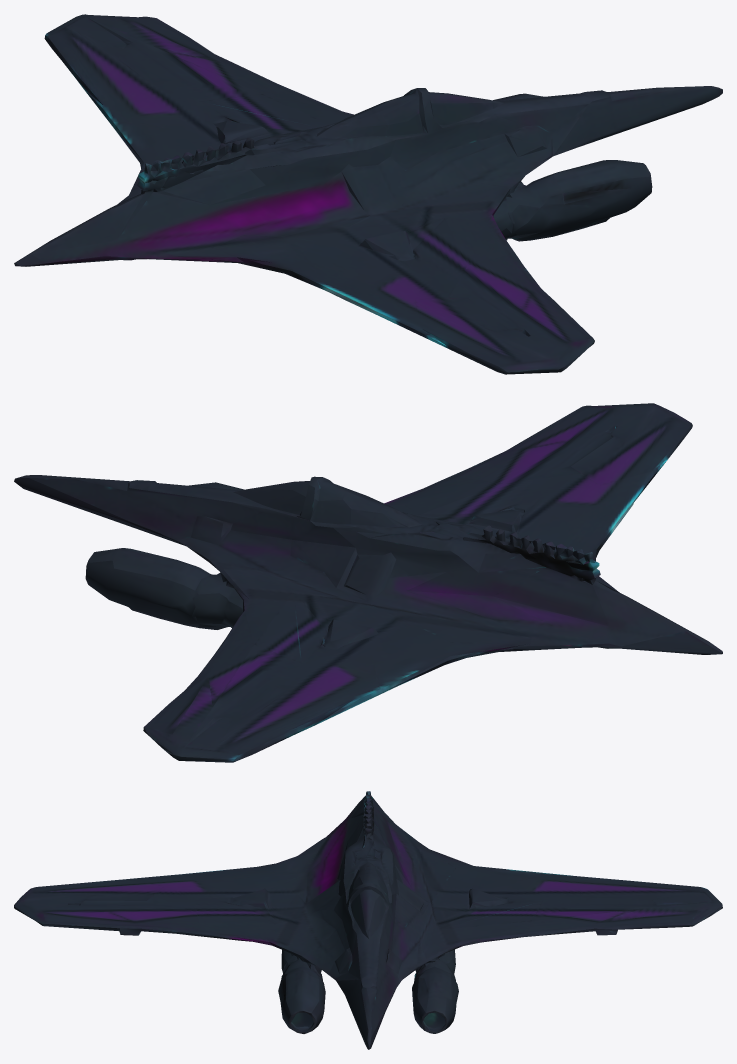
File: boss_cm_runner.glb
3 views of the same model, one above another, from view 1: azimuth 30°, elevation 25°; view 2: azimuth 150°, elevation 25°; view 3: azimuth 270°, elevation 25° (orthographic). The views are drawn at different scales.
Bounding box in the file's own units: 1.61 × 0.3168 × 1.9.
1 material, 1 textured.
